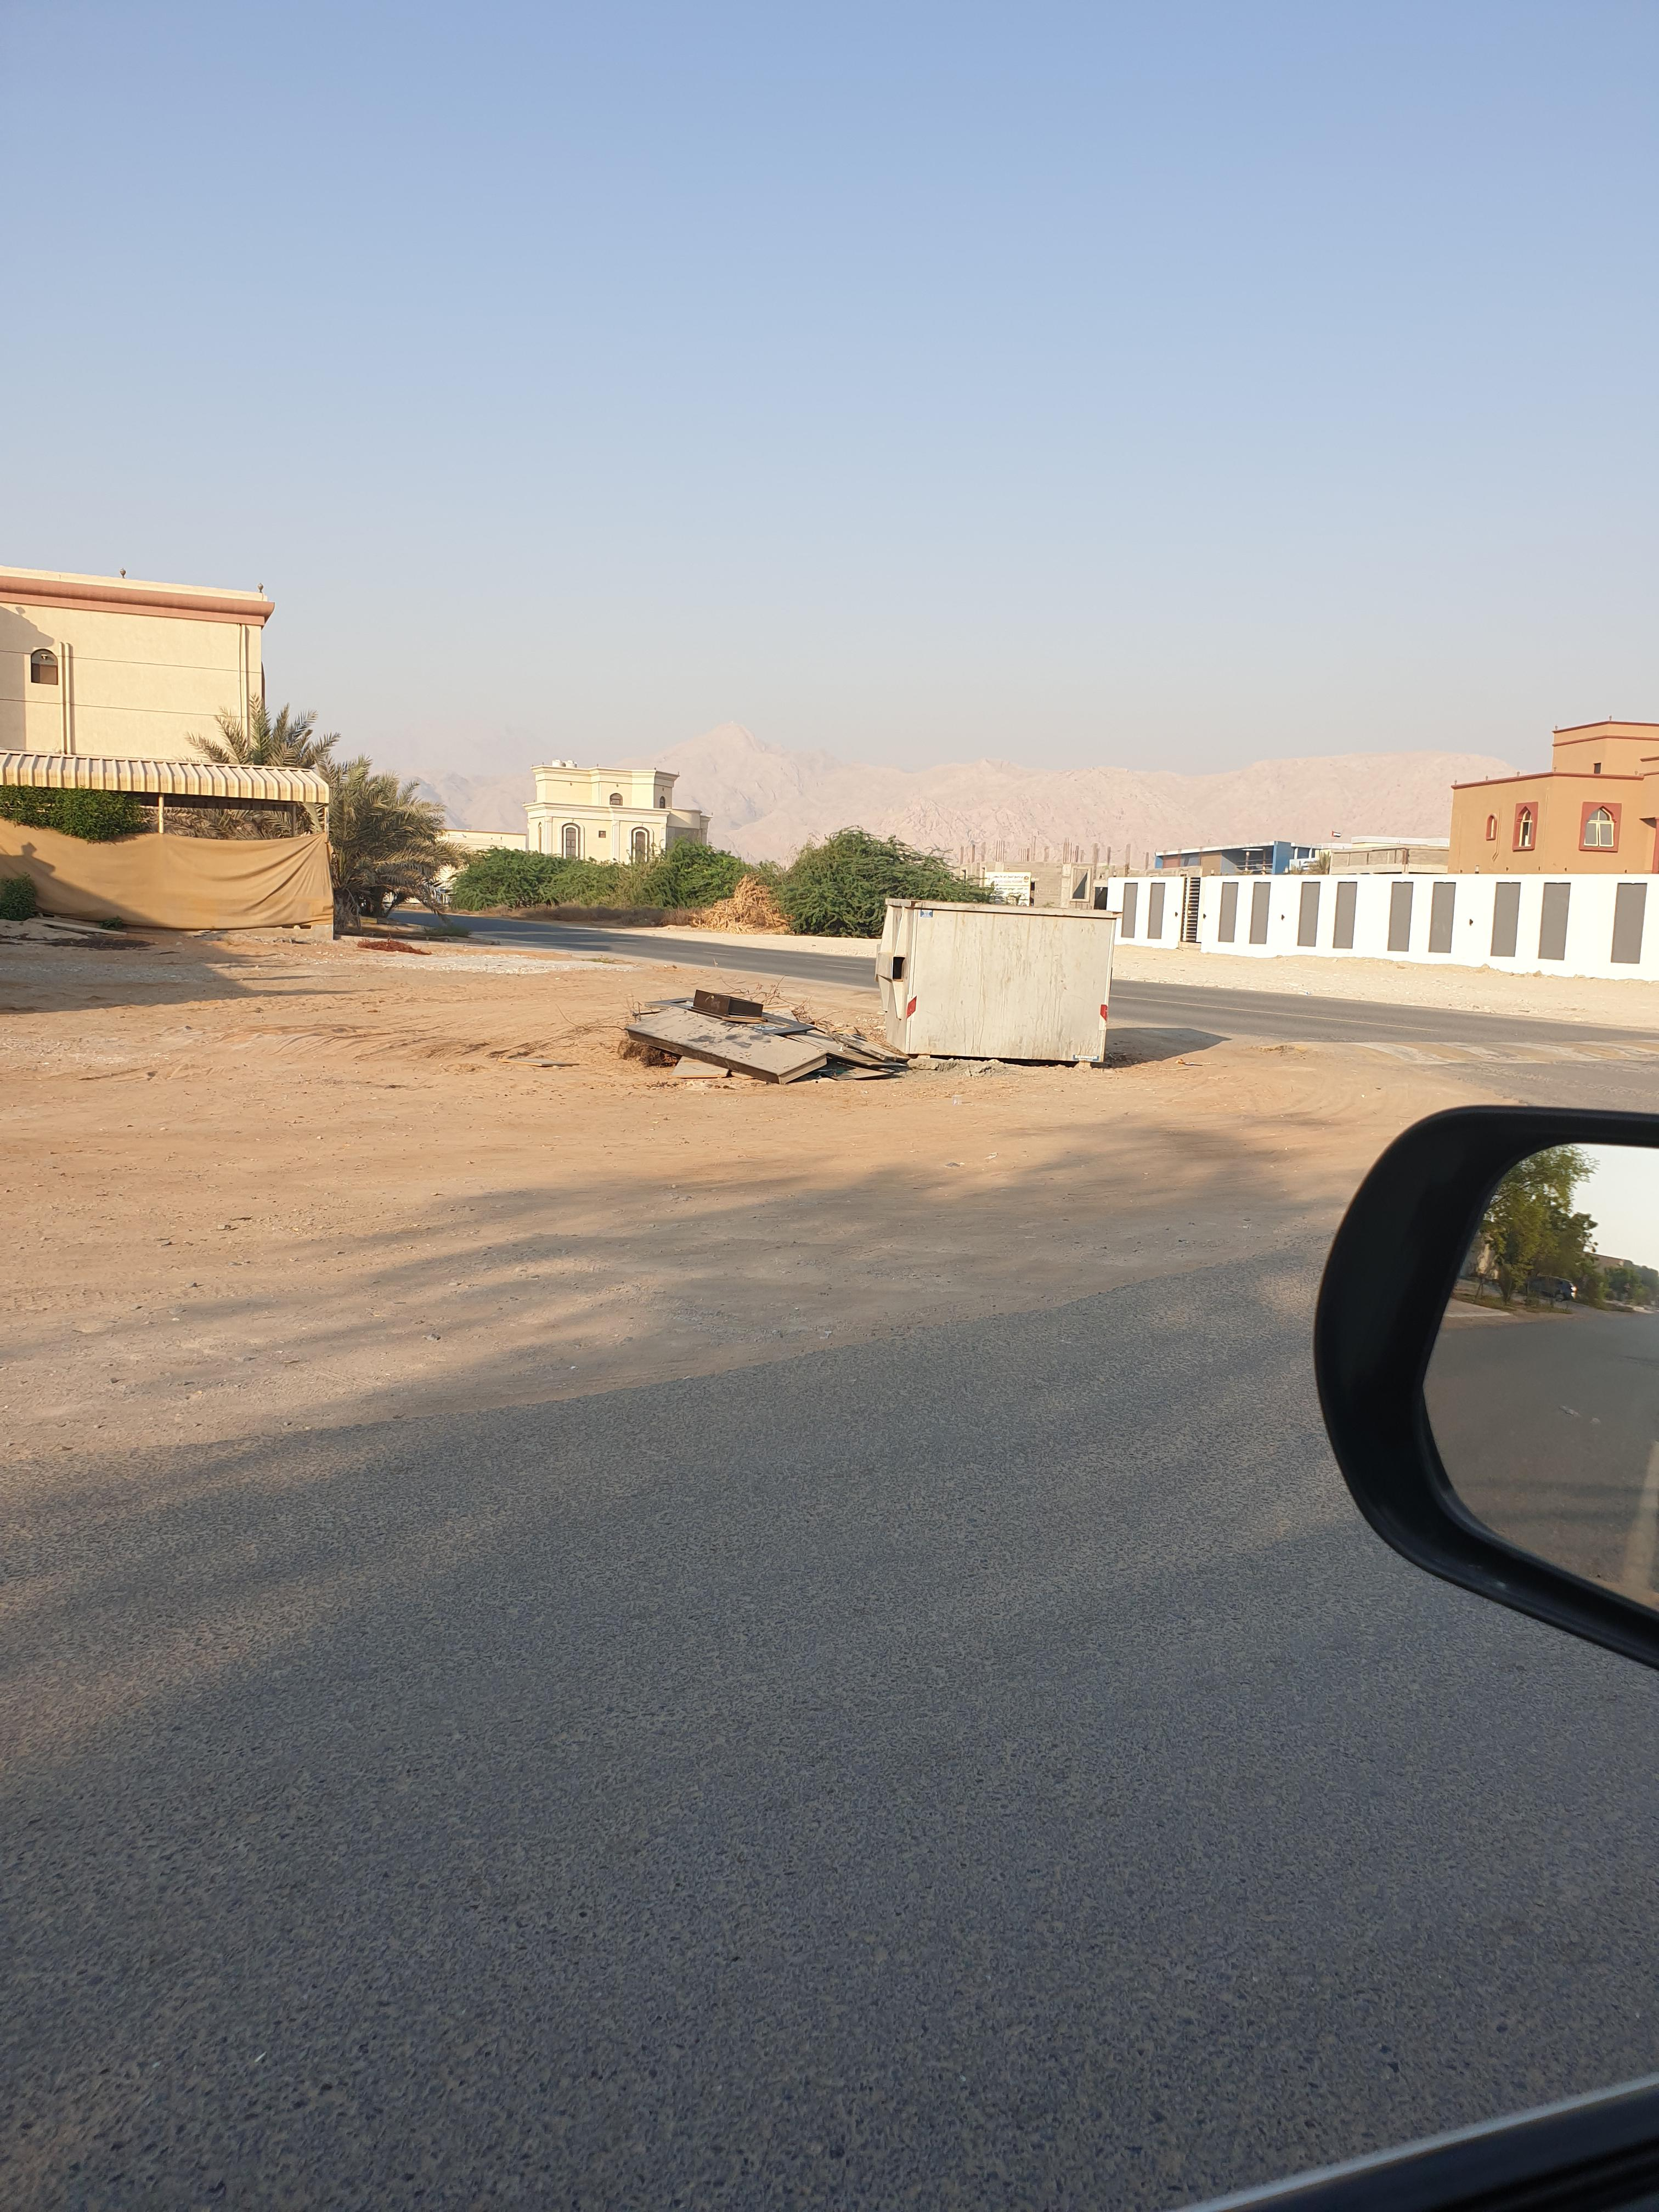uncollected_waste: (610, 982, 889, 1108), (674, 993, 889, 1090), (586, 1003, 741, 1078)
